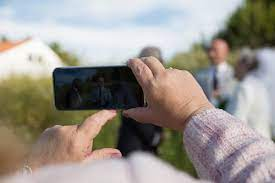Smart Phone: (41, 60, 163, 114)
